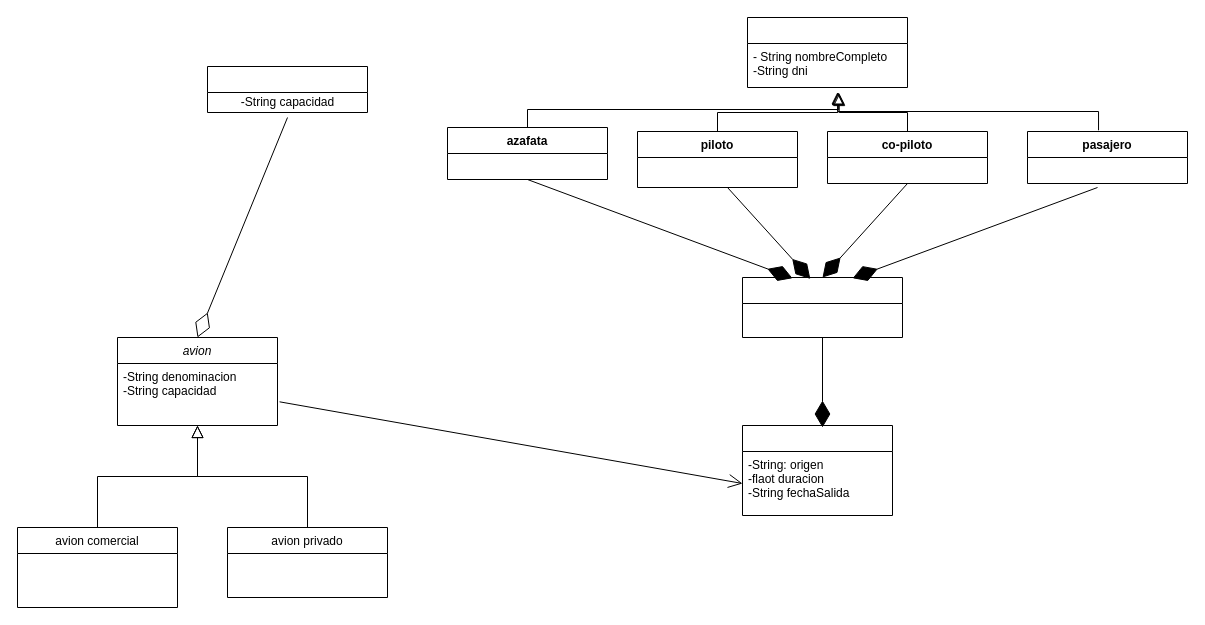
Image size: 1205x625. Some labels were removed from this diagram. Each missing label, with the box of its shape:
hangar: (206, 66, 368, 112)
persona: (746, 16, 908, 88)
tripulacion: (742, 276, 902, 338)
vuelo: (742, 424, 892, 516)
